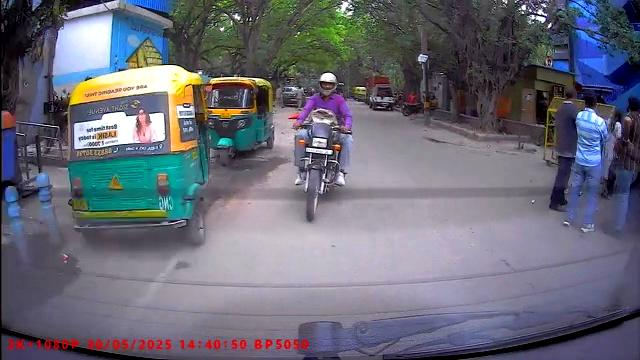motorcycle_with_helmet: (290, 70, 352, 223)
